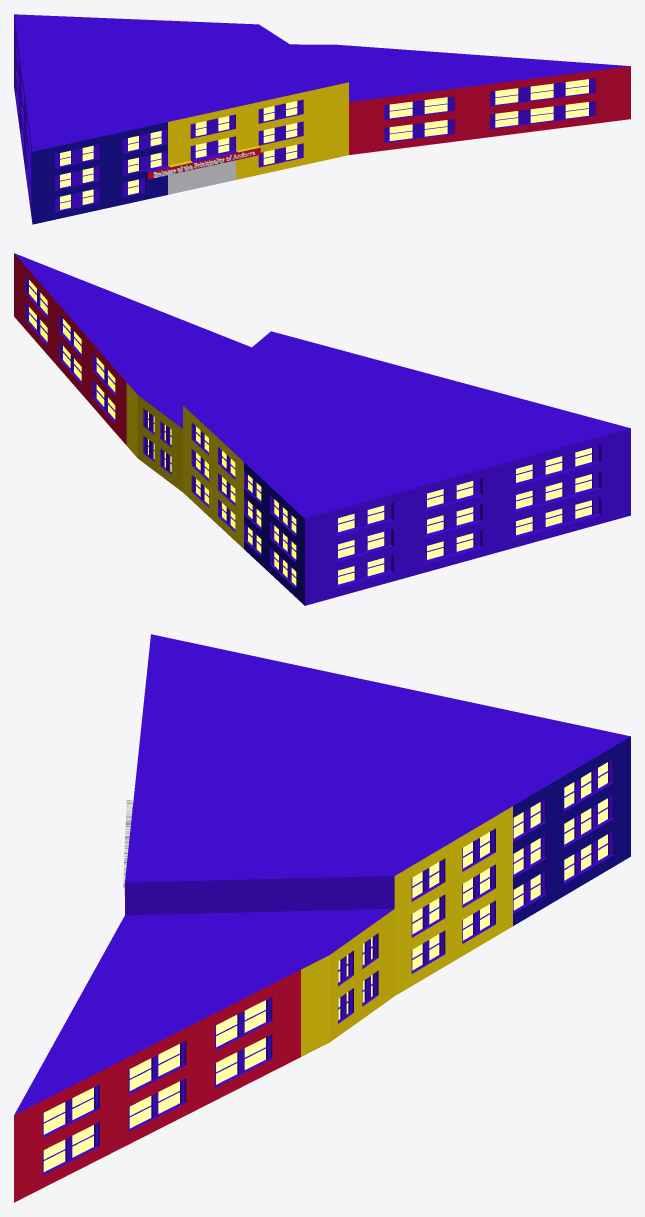
The model's file is embassy_of_andorra.fbx.
3 renders of one model, top to bottom at view 1: azimuth 30°, elevation 25°; view 2: azimuth 150°, elevation 25°; view 3: azimuth 270°, elevation 25°, orthographic. The views are drawn at different scales.
Visible parts, largest first — view 1: embassy_of_andorra; view 2: embassy_of_andorra; view 3: embassy_of_andorra.
Boxes of the visible parts, x1=… form: embassy_of_andorra: x1=14, y1=14, x2=630, y2=224; embassy_of_andorra: x1=14, y1=253, x2=630, y2=605; embassy_of_andorra: x1=14, y1=634, x2=630, y2=1202.
Bounding box in the file's own units: 1320 × 165 × 767.
